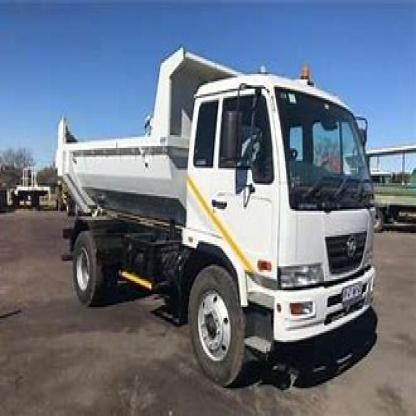dump_truck: (41, 35, 384, 399)
